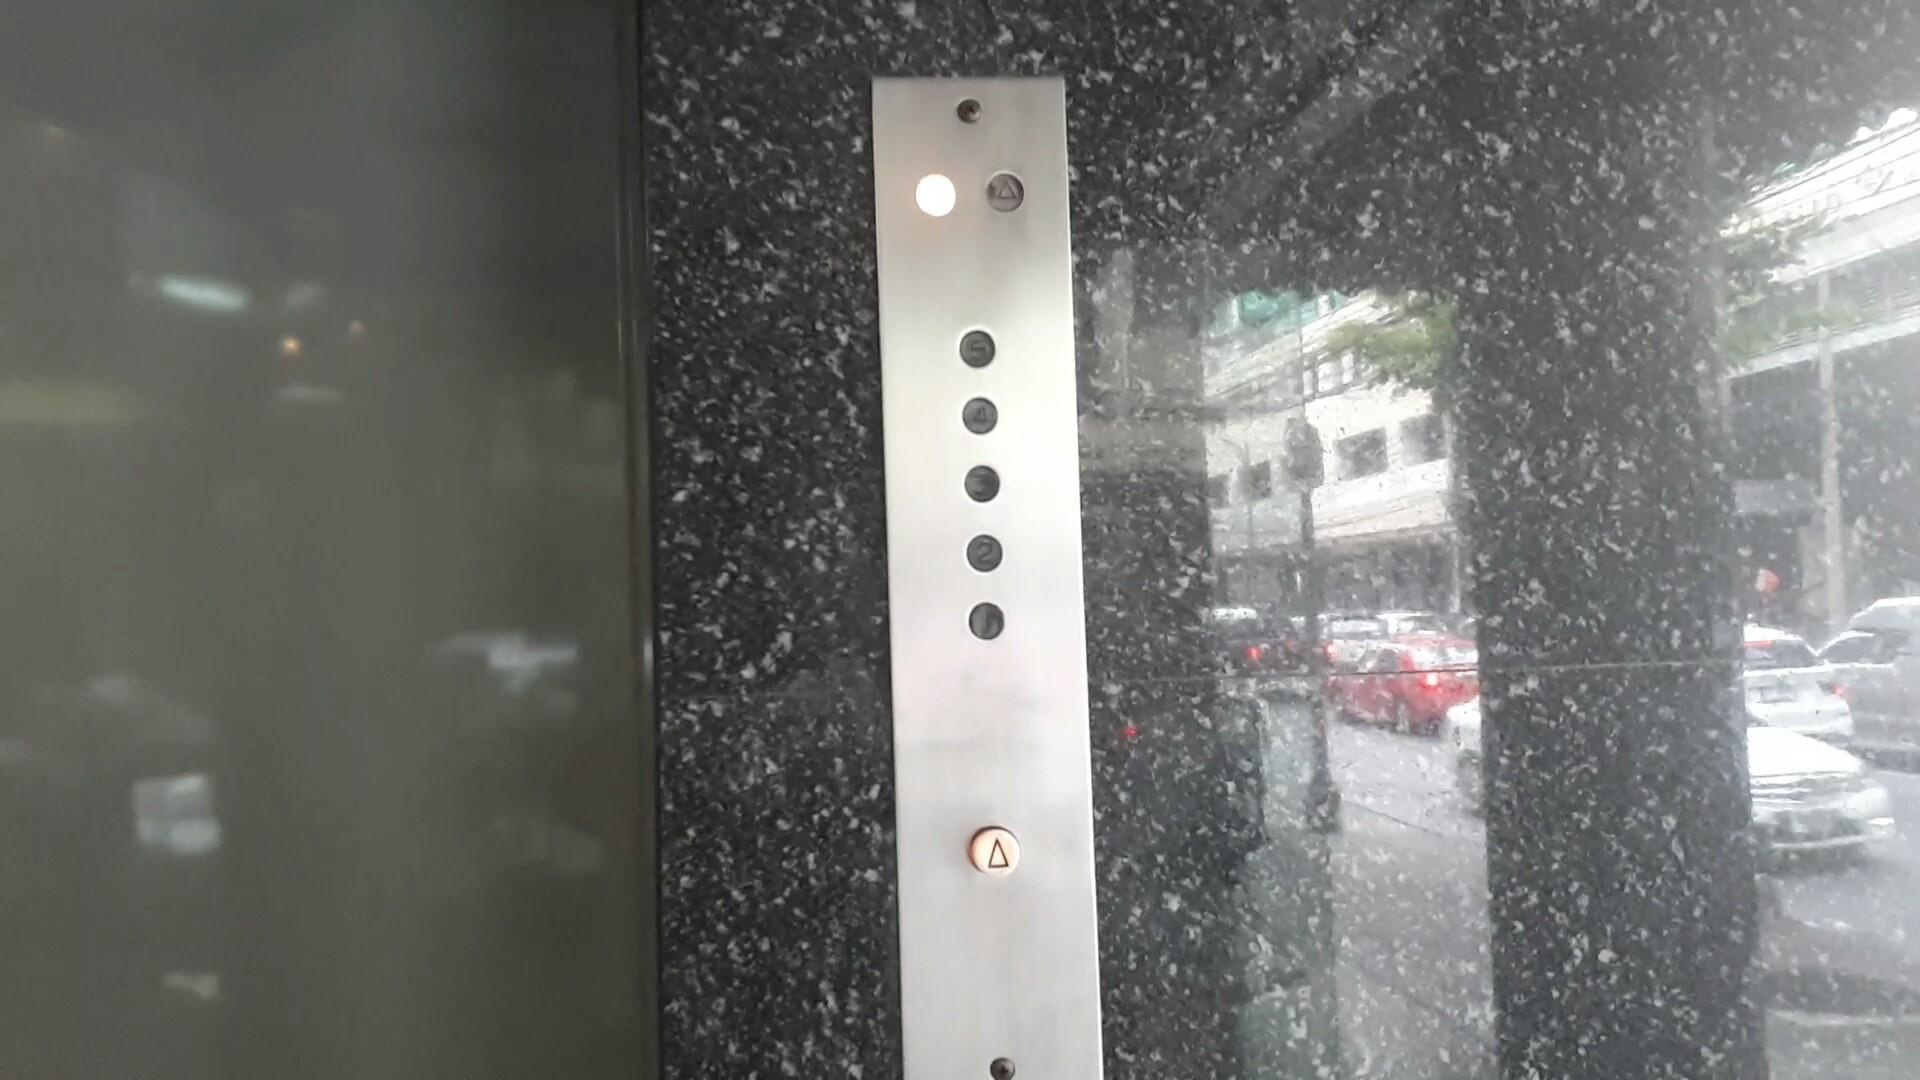1: (963, 597, 1007, 645)
2: (963, 529, 1007, 576)
3: (959, 462, 1004, 508)
4: (957, 392, 1002, 439)
5: (953, 324, 1001, 373)
empty: (911, 167, 961, 220)
up: (963, 822, 1029, 885), (978, 167, 1029, 220)
